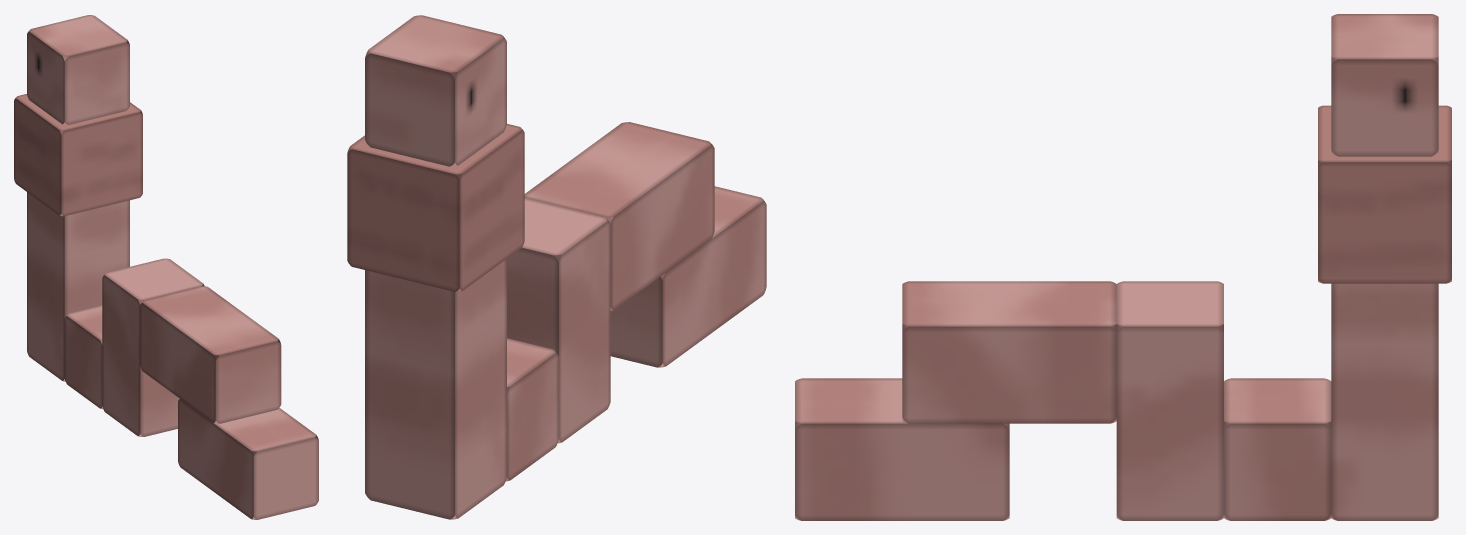
The model's file is worm.fbx.
3 renders of one model, left to right at view 1: azimuth 30°, elevation 25°; view 2: azimuth 150°, elevation 25°; view 3: azimuth 270°, elevation 25°, orthographic. The views are drawn at different scales.
Parts seen in each view (by area): view 1: cuboid_5, cuboid_6, cuboid_1, cuboid, cuboid_4, cuboid_2, cuboid_3; view 2: cuboid, cuboid_1, cuboid_5, cuboid_2, cuboid_4, cuboid_6, cuboid_3; view 3: cuboid_5, cuboid_6, cuboid_4, cuboid, cuboid_1, cuboid_3, cuboid_2.
Part boxes in pixels (x1,y1,x2,y2): cuboid_5: [140, 286, 281, 423]; cuboid_6: [178, 399, 318, 519]; cuboid_1: [14, 94, 142, 216]; cuboid: [27, 192, 129, 381]; cuboid_4: [102, 258, 204, 436]; cuboid_2: [27, 15, 129, 124]; cuboid_3: [64, 305, 102, 409]; cuboid: [365, 259, 506, 519]; cuboid_1: [347, 124, 524, 291]; cuboid_5: [524, 122, 714, 310]; cuboid_2: [365, 15, 506, 166]; cuboid_4: [507, 198, 610, 443]; cuboid_6: [610, 186, 766, 367]; cuboid_3: [506, 338, 558, 481]; cuboid_5: [902, 281, 1116, 423]; cuboid_6: [795, 378, 1009, 520]; cuboid_4: [1116, 281, 1223, 520]; cuboid: [1331, 283, 1438, 520]; cuboid_1: [1318, 105, 1451, 283]; cuboid_3: [1224, 378, 1331, 520]; cuboid_2: [1331, 14, 1438, 156].
Size of the model in its own units: 15.62 by 59.38 by 76.56.
Materials: 1 (1 with a texture image).
